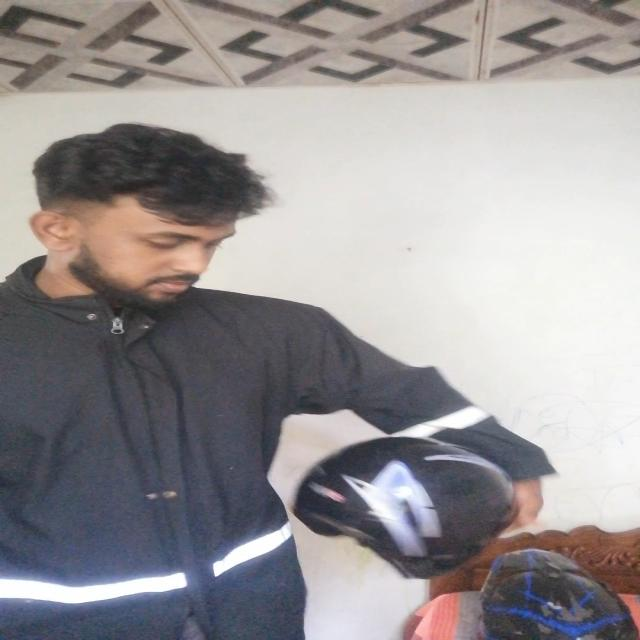Jacket_Wearer: (0, 254, 390, 633)
Person: (0, 123, 559, 640)
